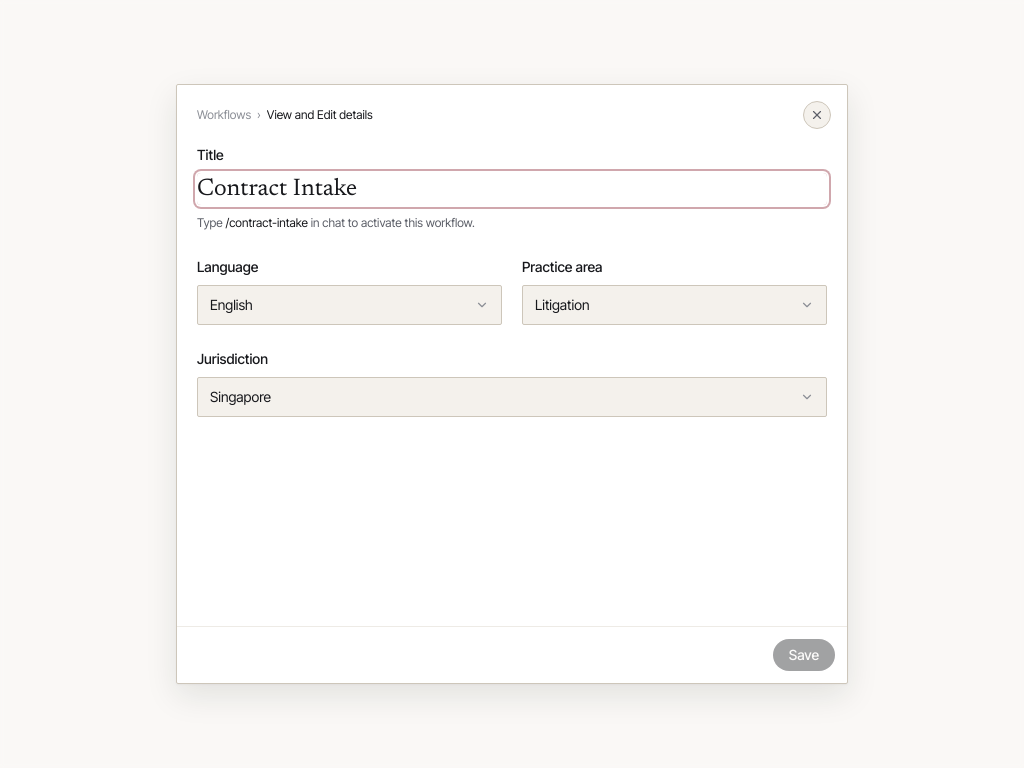
Test: NewWorkflowModal editing › disables Save until details change
Expected: the button "Save" is disabled, [773, 639, 835, 671]
Replace the text in the field labelled "Title" with "Contract Review". click: (512, 189)
box: [197, 173, 827, 205]
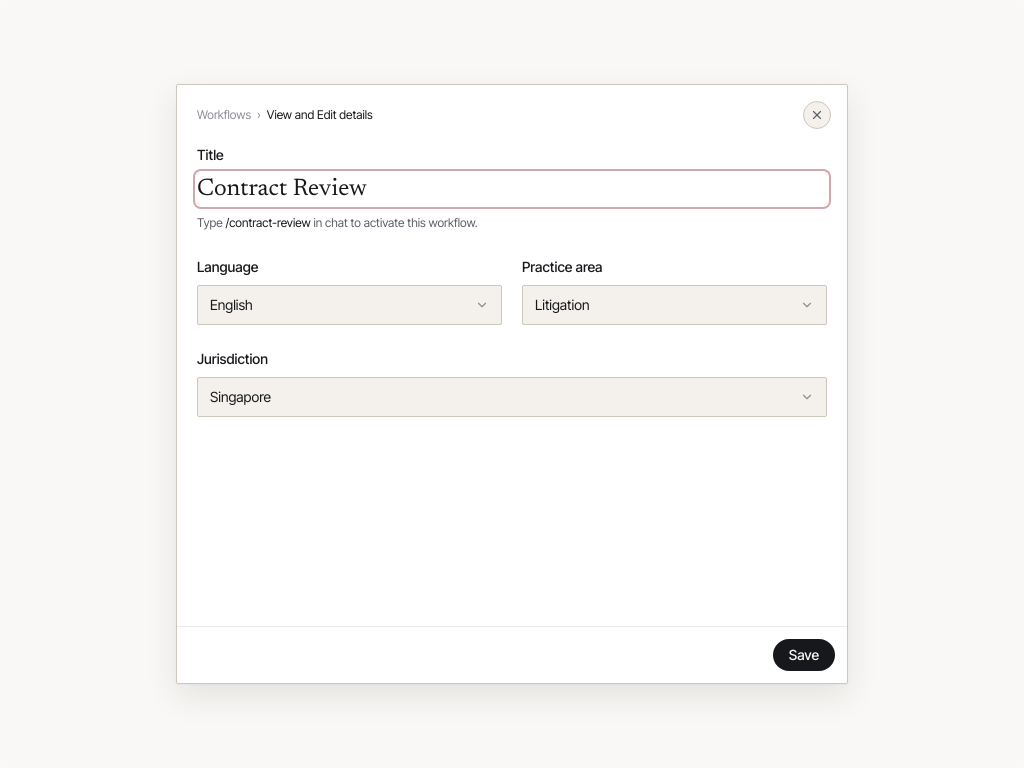
Expected: the button "Save" is enabled, [773, 639, 835, 671]
Replace the text in the field labelled "Title" with "Contract Intake". click: (512, 189)
box: [197, 173, 827, 205]
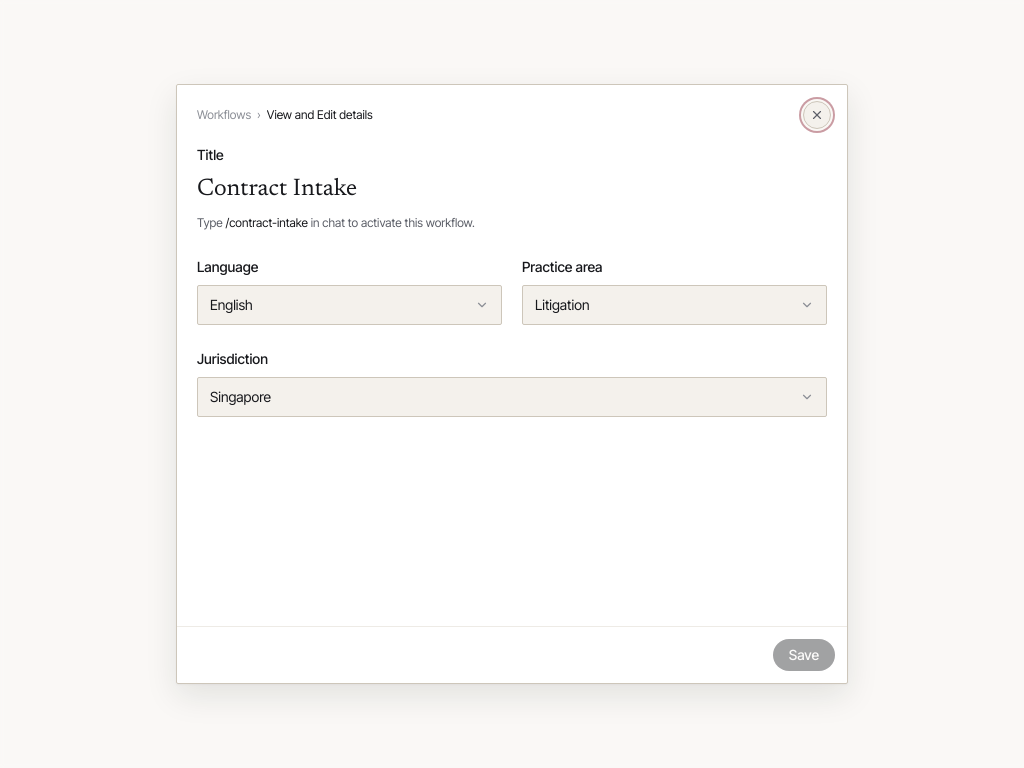
Expected: the button "Save" is disabled, [773, 639, 835, 671]
